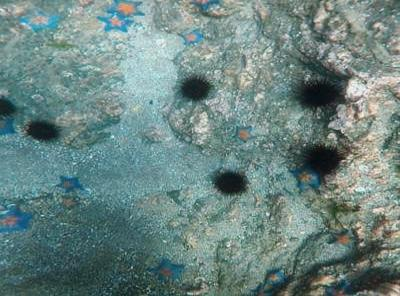urchin: (299, 142, 343, 176), (297, 78, 341, 109), (212, 167, 247, 197), (181, 75, 213, 102), (24, 119, 60, 142)
